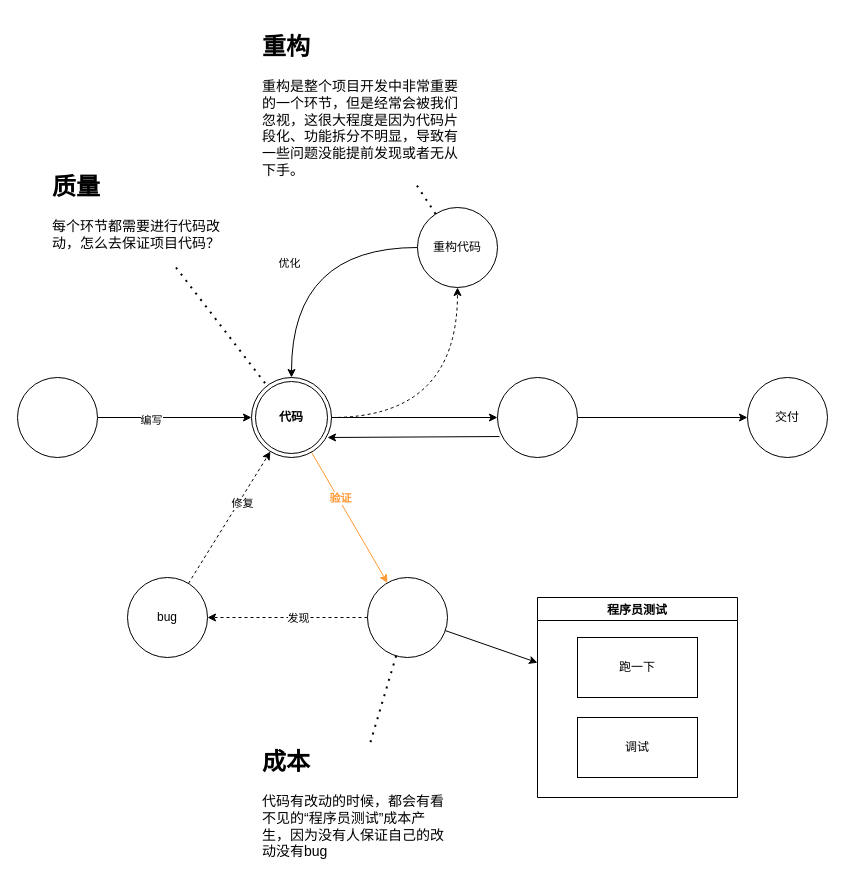
Some shapes in this 845 by 879 pixel diagram are drawn without their labels. Here are the shapes that lost their labels. From the top down, the centre of each, then its label:
the point at 57,417: 需求
the point at 537,417: 联调
the point at 407,617: 功能
